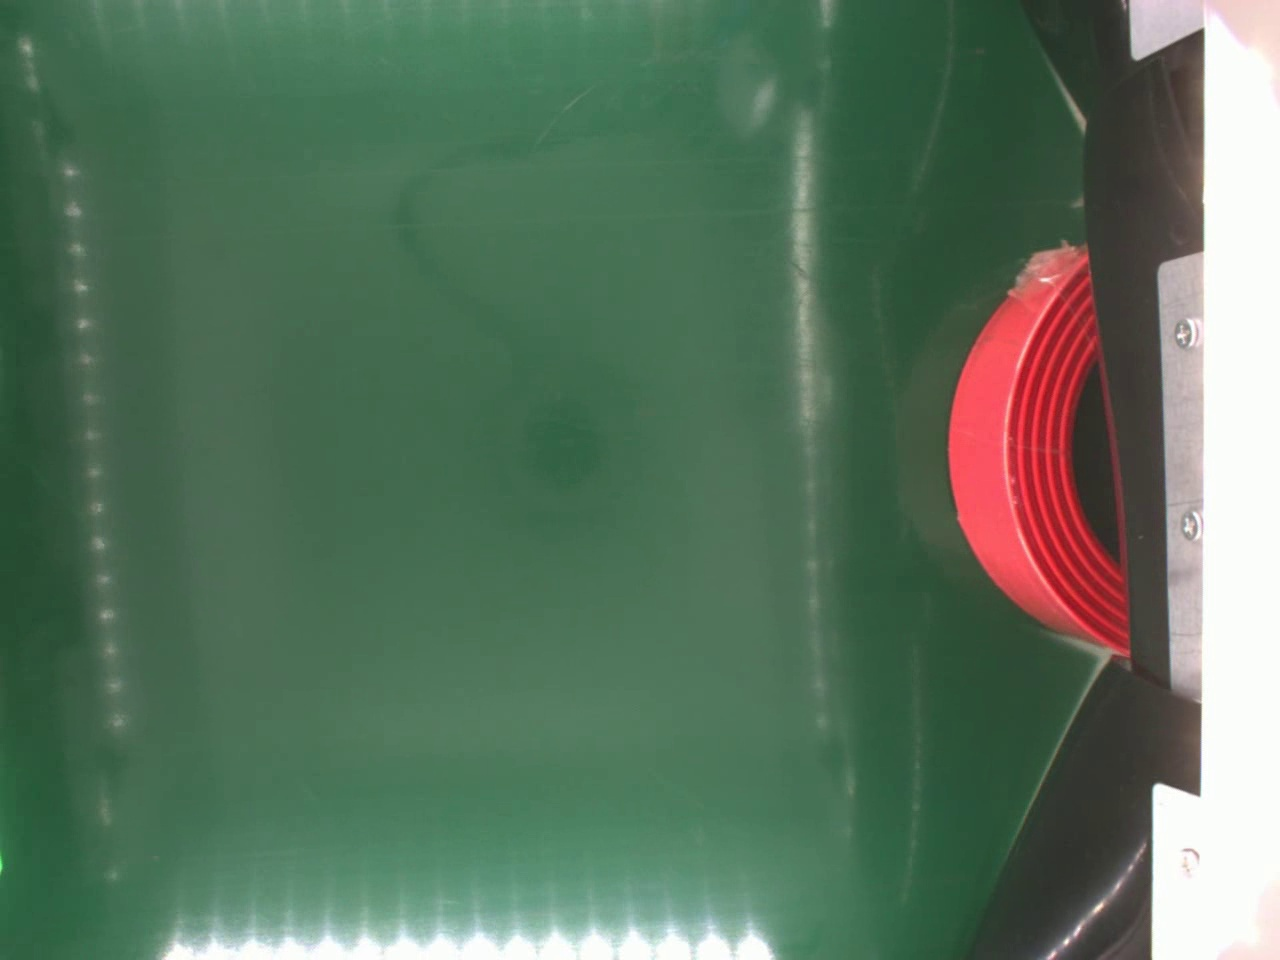red: (946, 241, 1129, 662)
